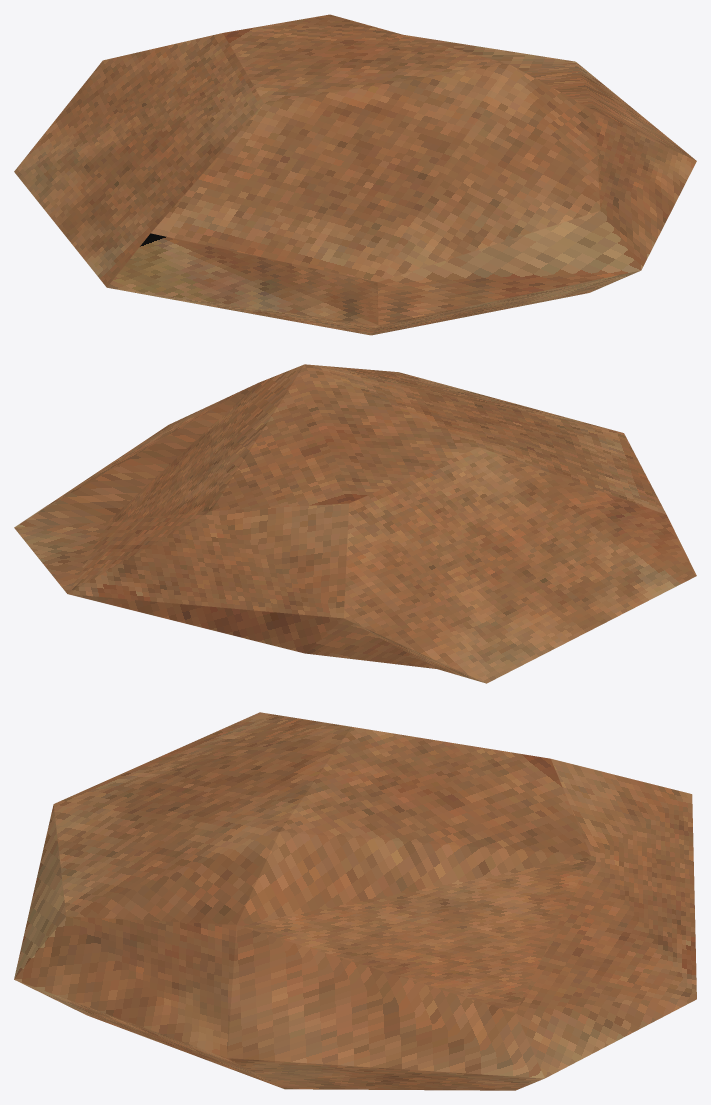
Rendered from rock_02.glb.
The picture shows the model from 3 angles, top to bottom: view 1: azimuth 30°, elevation 25°; view 2: azimuth 150°, elevation 25°; view 3: azimuth 270°, elevation 25°; orthographic projection. The views are drawn at different scales.
Parts seen in each view (by area): view 1: ROCK_02-no-col; view 2: ROCK_02-no-col; view 3: ROCK_02-no-col.
Part boxes in pixels (x1=…): ROCK_02-no-col: x1=14, y1=14, x2=696, y2=335; ROCK_02-no-col: x1=14, y1=364, x2=696, y2=683; ROCK_02-no-col: x1=14, y1=712, x2=696, y2=1090.
Bounding box in the file's own units: 3.22 × 0.9364 × 2.86.
1 material, 1 textured.
